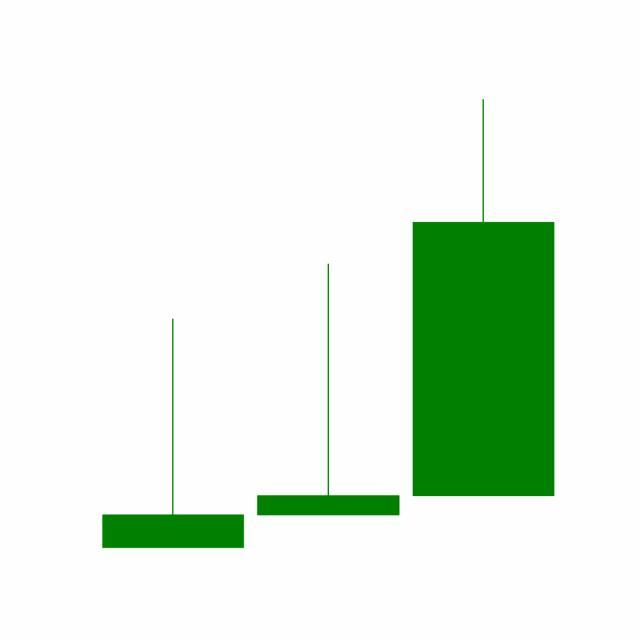Gravestone Doji: (250, 261, 407, 517)
